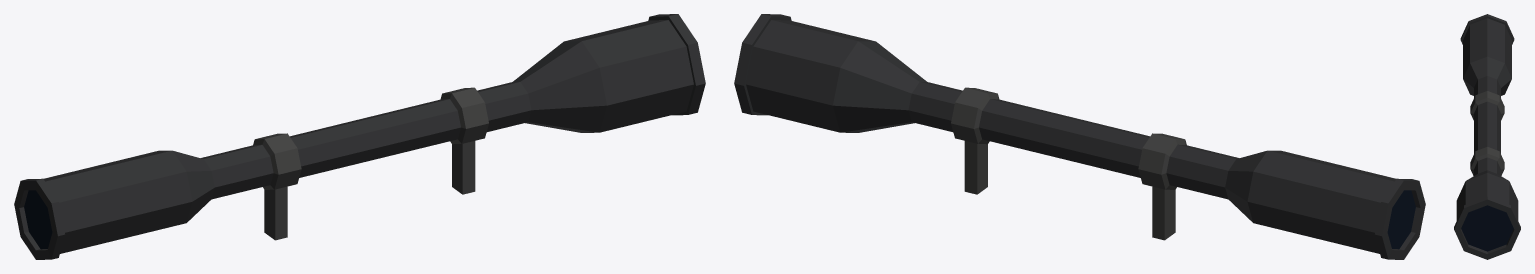
The model's file is scope_1.glb.
The picture shows the model from 3 angles, left to right: view 1: azimuth 30°, elevation 25°; view 2: azimuth 150°, elevation 25°; view 3: azimuth 270°, elevation 25°; orthographic projection. The views are drawn at different scales.
Visible parts, largest first — view 1: Scope_1; view 2: Scope_1; view 3: Scope_1.
Boxes of the visible parts, x1,y1,x2,y2 form: Scope_1: (14, 14, 705, 259); Scope_1: (734, 14, 1425, 259); Scope_1: (1454, 14, 1520, 259).
Bounding box in the file's own units: 2.1 × 0.3844 × 0.3099.
